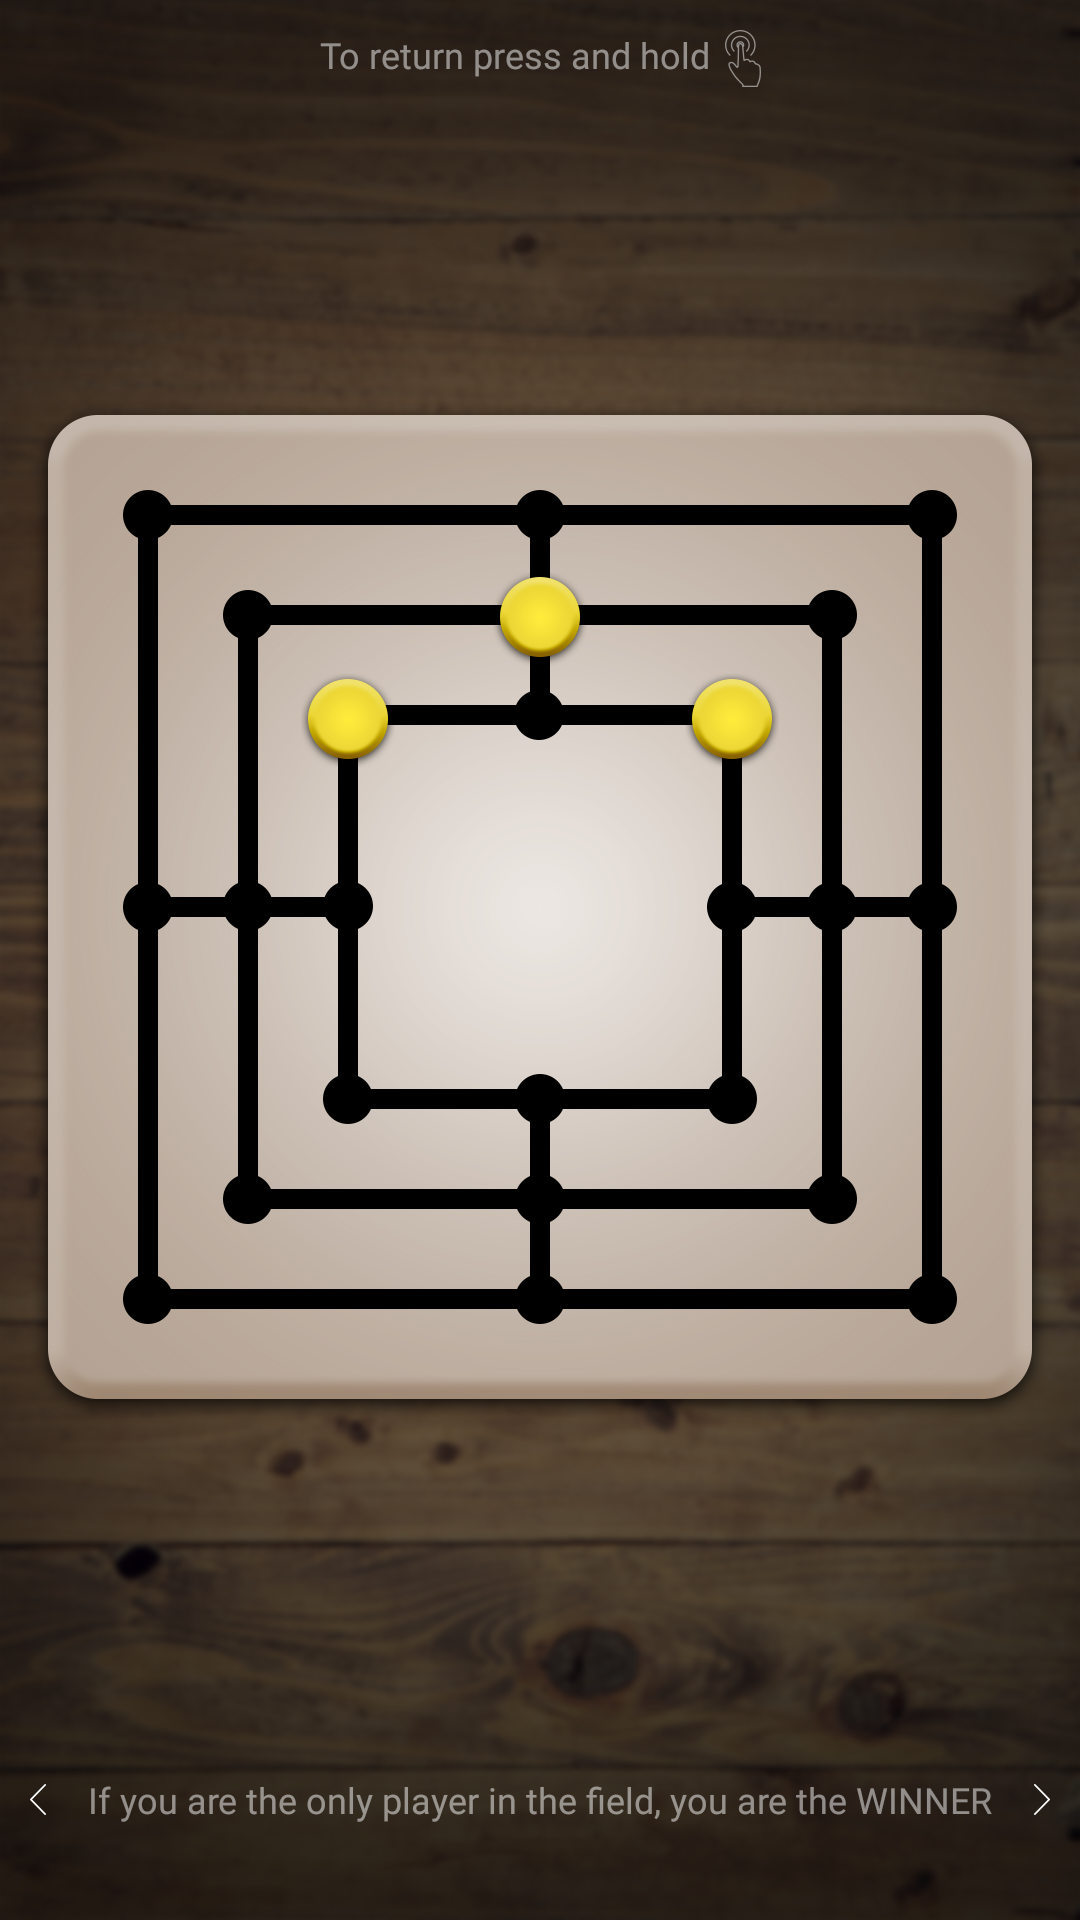

Where icons sit on this 1080 x 1920 app screen, as [left=x1, top=y1, right=x2, bottom=y2]:
player one: [left=480, top=558, right=600, bottom=678], [left=304, top=677, right=408, bottom=780], [left=672, top=677, right=776, bottom=780]
touch: [left=725, top=30, right=761, bottom=87]
